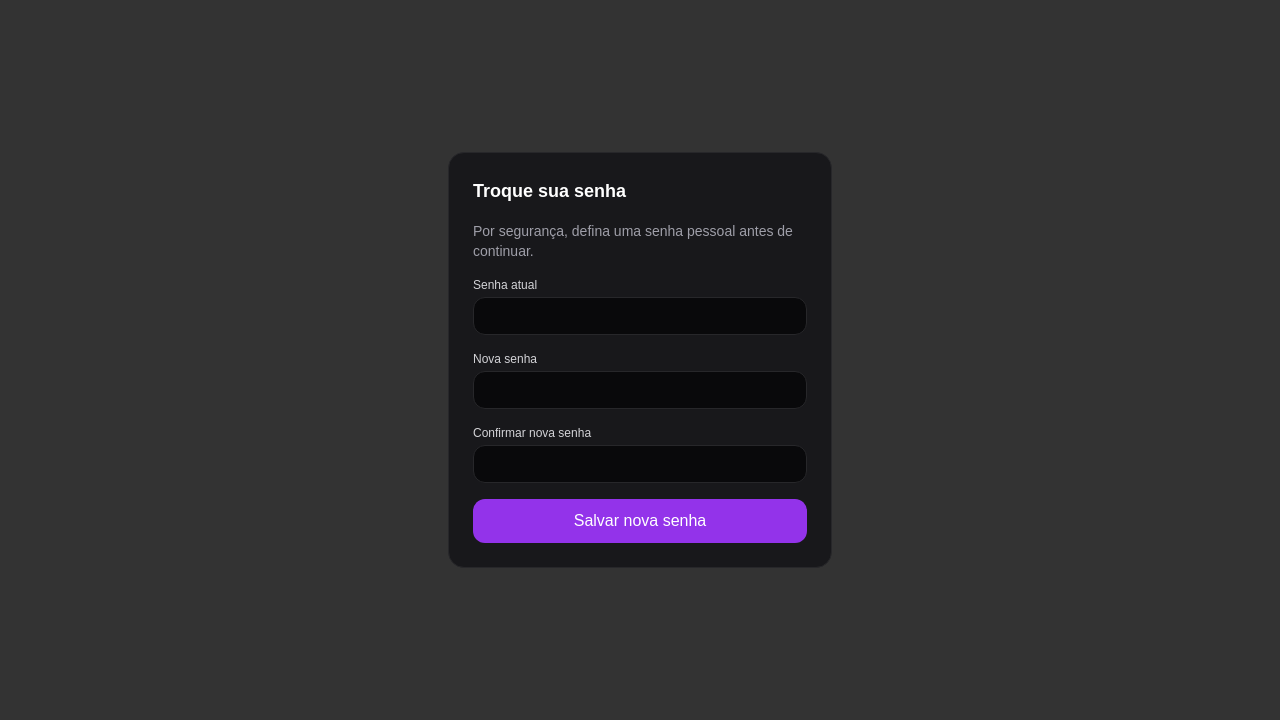
Test: TrocaSenhaObrigatoria › não envia quando a confirmação não confere
Type "senha-inicial-123" into the password field labelled "Senha atual" at (640, 316), box x1=473 y1=297 x2=807 y2=335
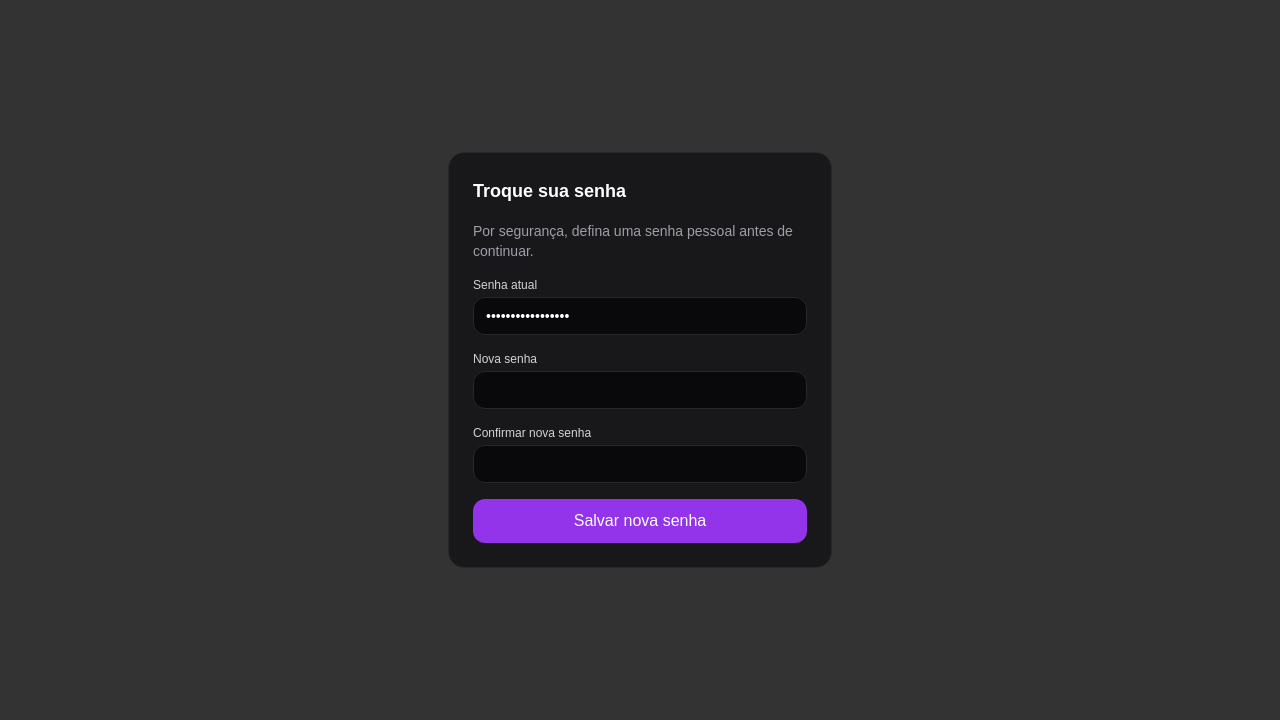
Type "senha-nova-456" into the password field labelled "Nova senha" at (640, 390), box x1=473 y1=371 x2=807 y2=409
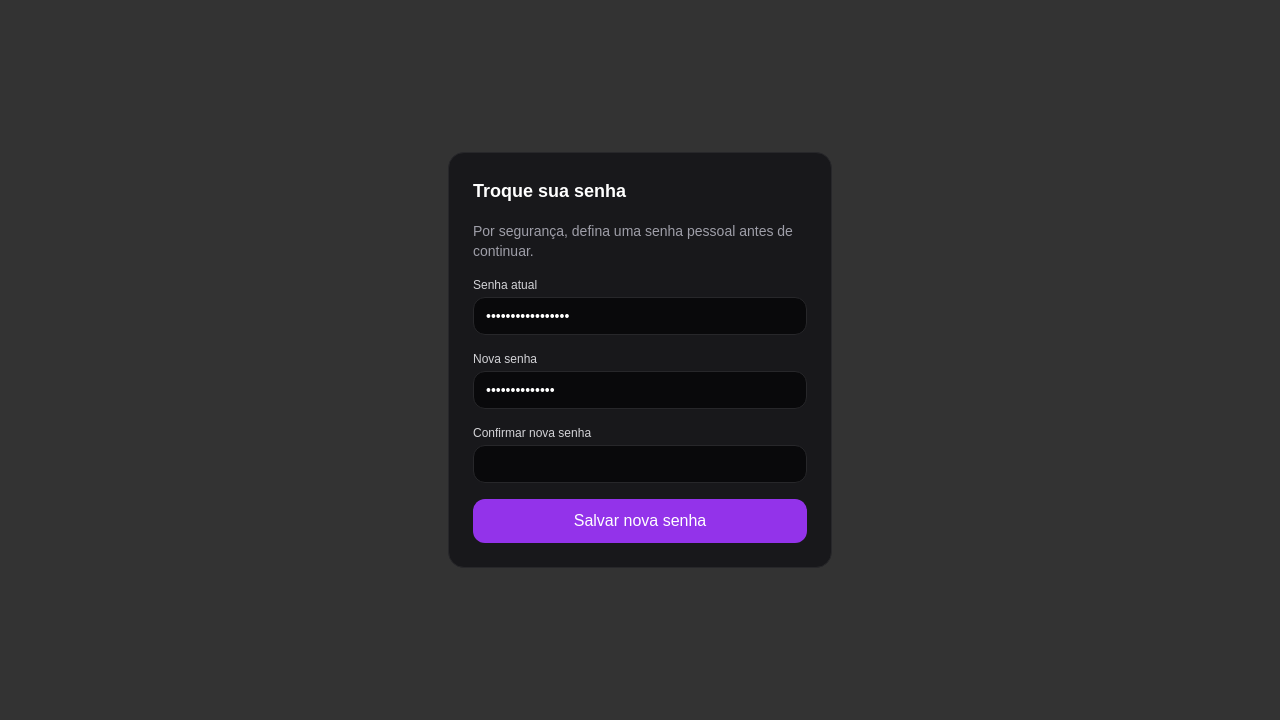
Type "outra-senha-789" into the password field labelled "Confirmar nova senha" at (640, 464), box x1=473 y1=445 x2=807 y2=483
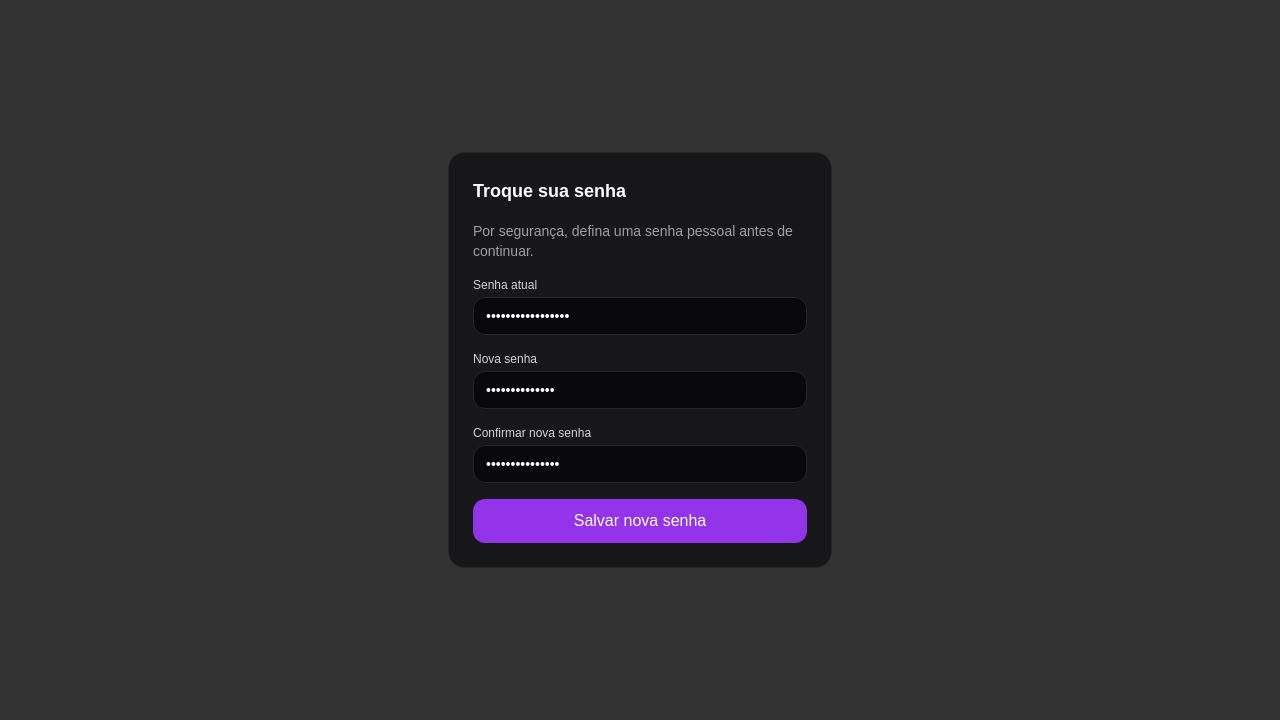
Submit the form, box x1=448 y1=152 x2=832 y2=568
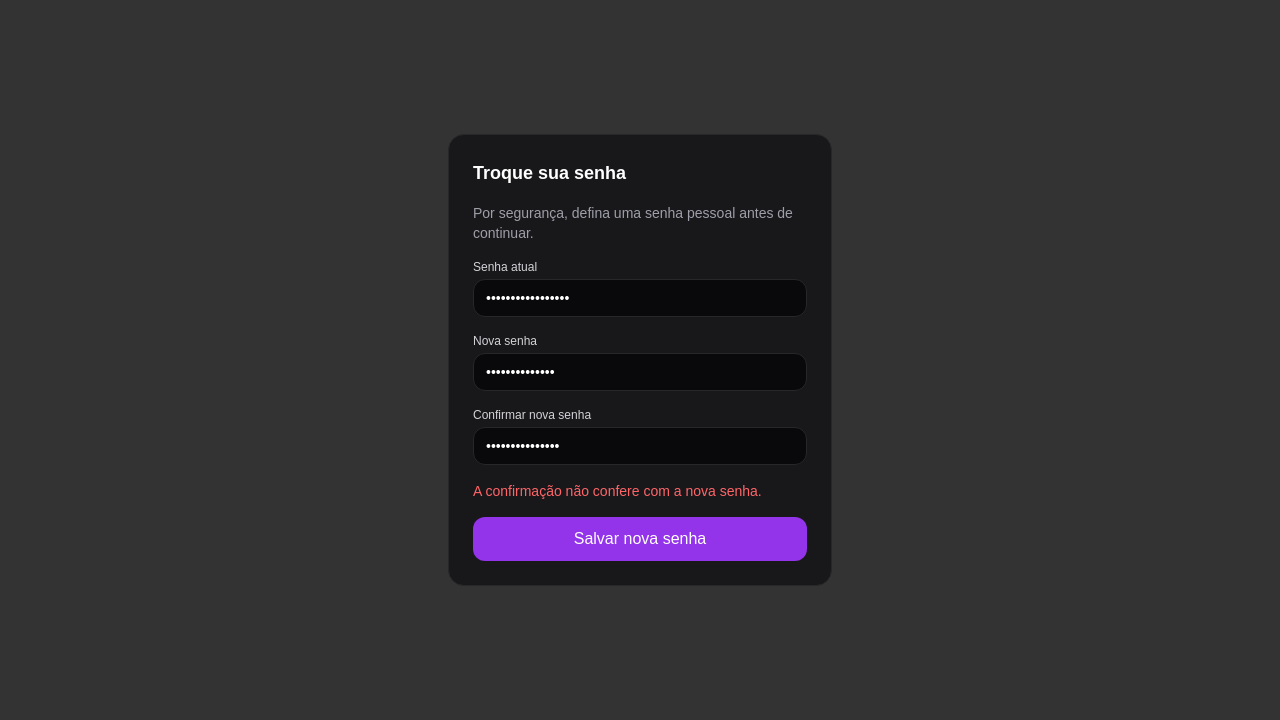
Expected: the message shows "não confere", x1=473 y1=483 x2=762 y2=499
